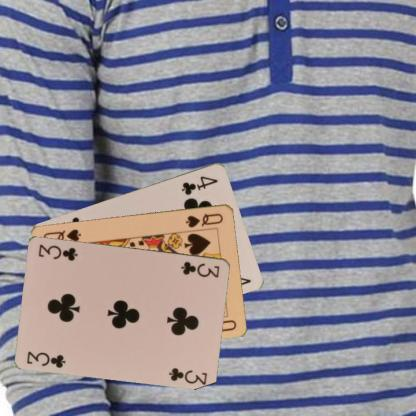3c: (178, 258, 222, 278), (24, 348, 67, 368)
4c: (178, 173, 220, 196)
Qs: (183, 210, 225, 229)
